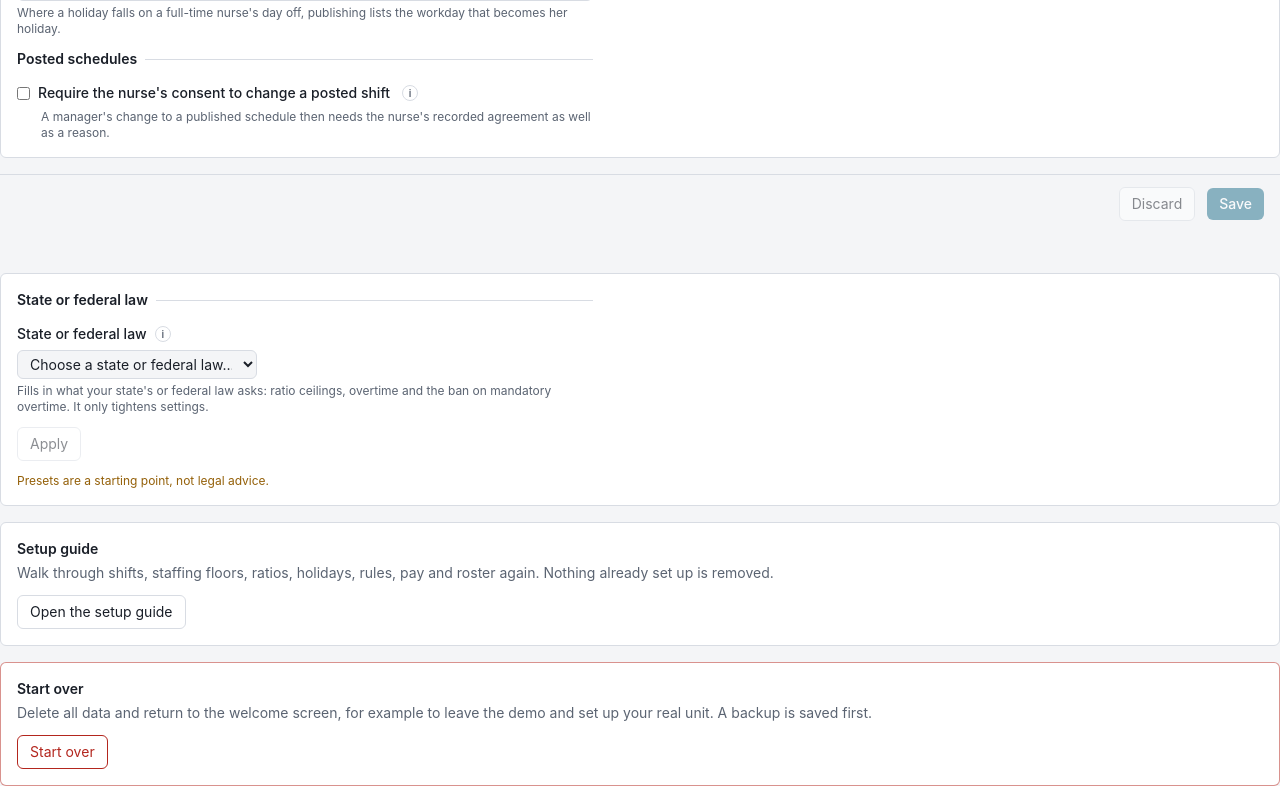
Test case: Settings › Unit start over › does not start over when the manager cancels
The width and height of the screenshot is (1280, 786).
(page scrolled)
Step 1. Click the button with test id "start-over" → (62, 752), box [17,735,108,769]
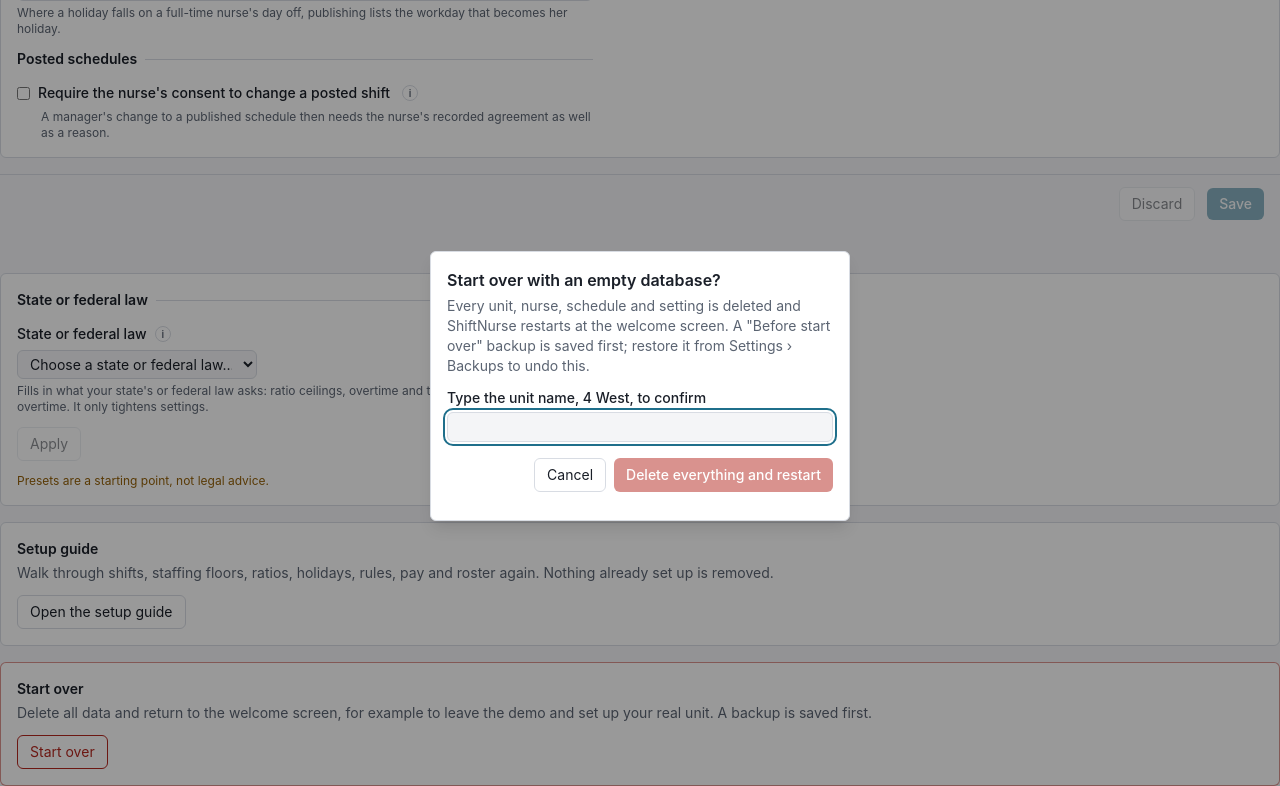
Step 2. Type "4 West" into the field labelled "Type the unit name, 4 West, to confirm" → (640, 427), box [447,412,833,442]
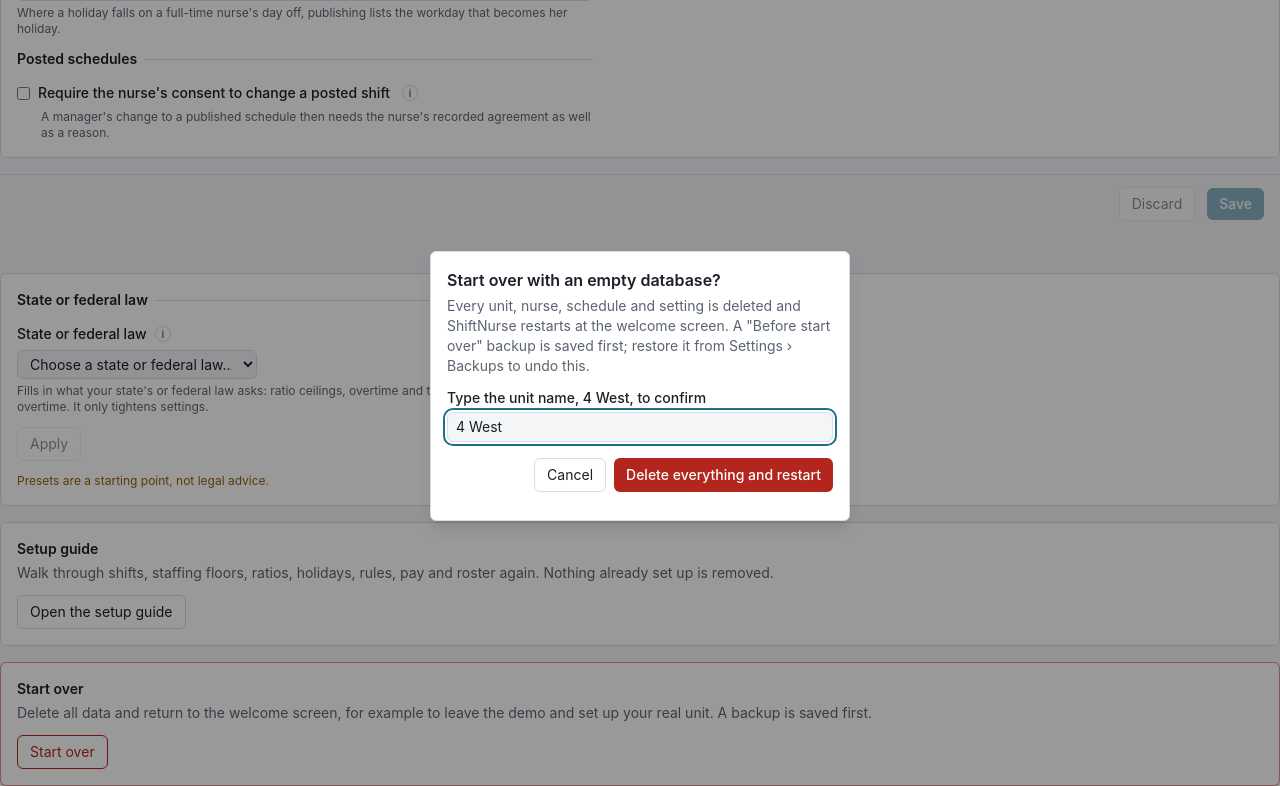
Step 3. Click the button "Cancel" → (570, 475), box [534,458,606,492]
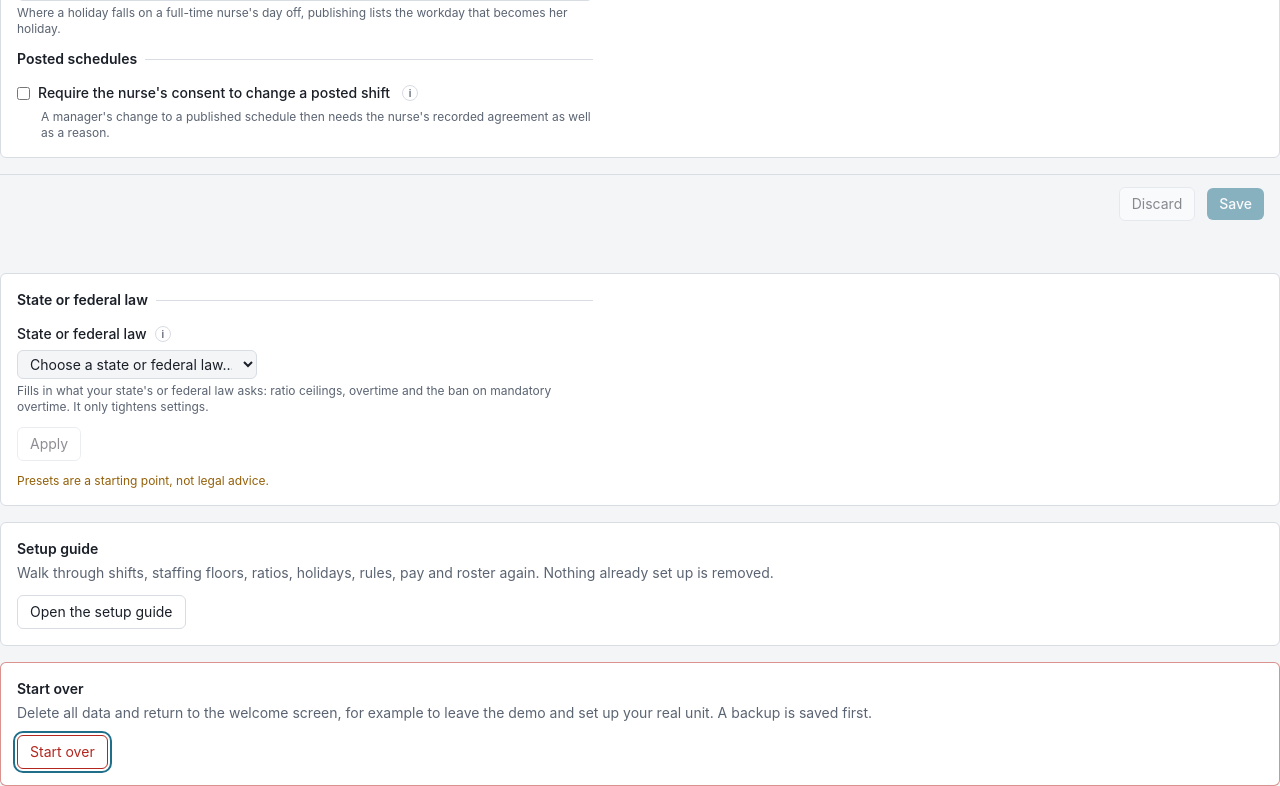
Now the dialog is gone
